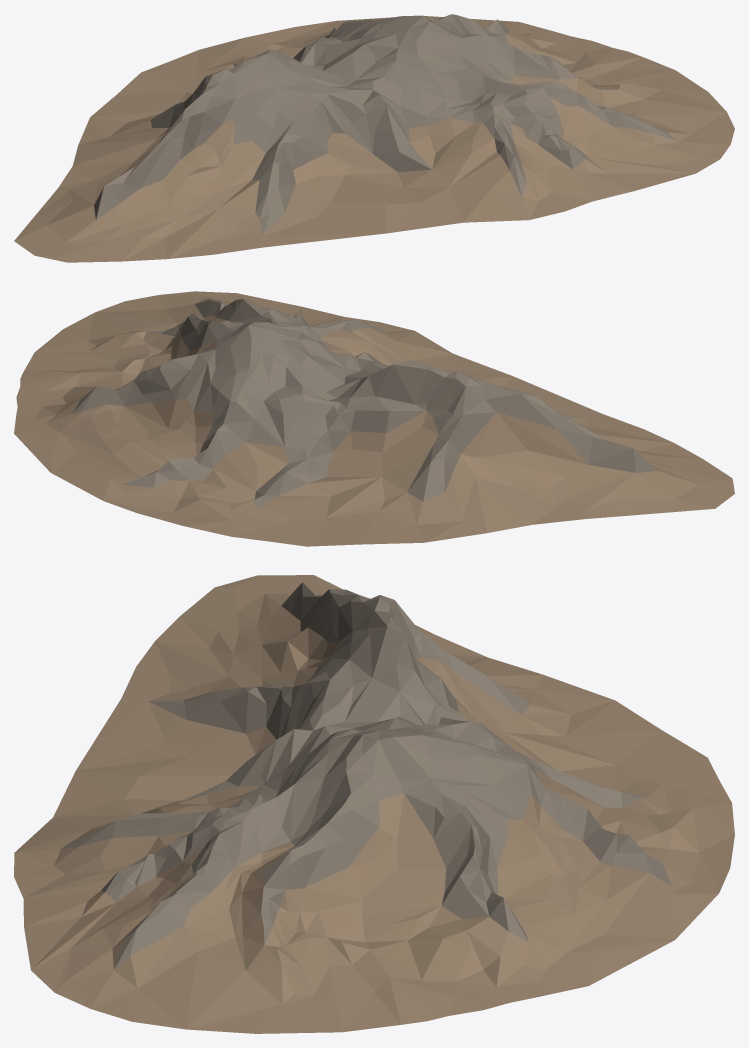
File: SM_Env_Mountain_05.glb
3 views of the same model, one above another, from view 1: azimuth 30°, elevation 25°; view 2: azimuth 150°, elevation 25°; view 3: azimuth 270°, elevation 25° (orthographic). The views are drawn at different scales.
Visible parts, largest first — view 1: SM_Env_Mountain_05; view 2: SM_Env_Mountain_05; view 3: SM_Env_Mountain_05.
Part boxes in pixels (x1=…): SM_Env_Mountain_05: x1=14, y1=14, x2=734, y2=262; SM_Env_Mountain_05: x1=14, y1=291, x2=734, y2=546; SM_Env_Mountain_05: x1=14, y1=575, x2=734, y2=1033.
Bounding box in the file's own units: 77.43 × 11.12 × 51.41.
Materials: 1 (1 with a texture image).
